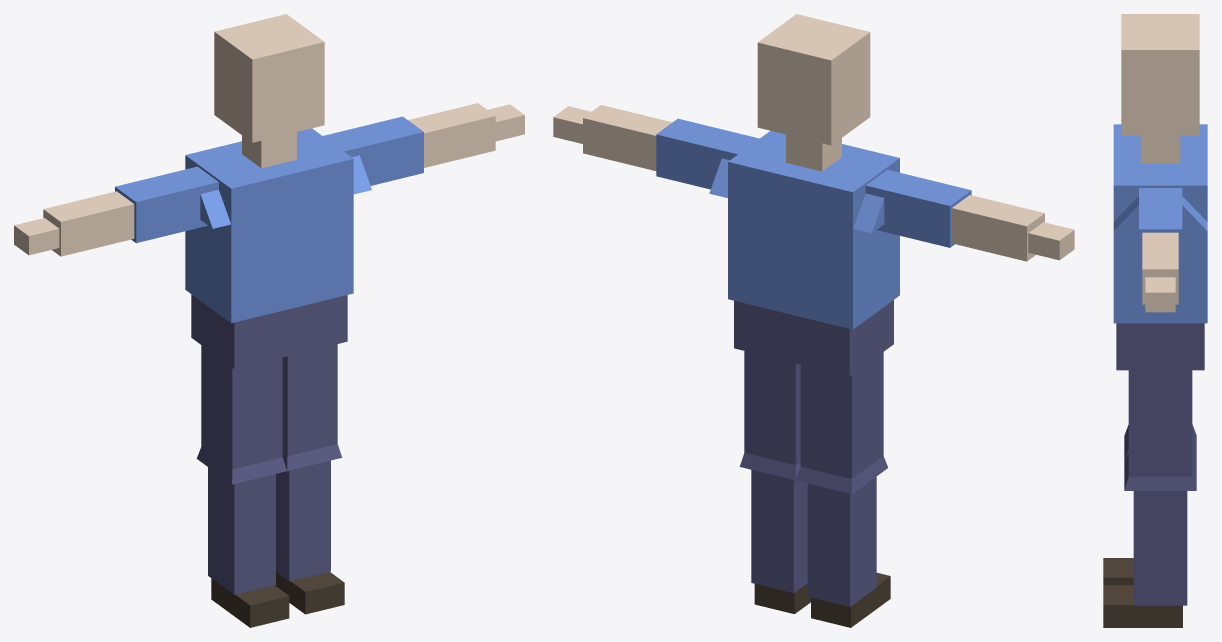
The model's file is character_lowpoly_mixamo.glb.
3 renders of one model, left to right at view 1: azimuth 30°, elevation 25°; view 2: azimuth 150°, elevation 25°; view 3: azimuth 270°, elevation 25°, orthographic. The views are drawn at different scales.
Parts seen in each view (by area): view 1: LowPolyCharacter_Mixamo; view 2: LowPolyCharacter_Mixamo; view 3: LowPolyCharacter_Mixamo.
Part boxes in pixels (bbox=[...]): LowPolyCharacter_Mixamo: bbox=[14, 14, 524, 627]; LowPolyCharacter_Mixamo: bbox=[553, 14, 1074, 627]; LowPolyCharacter_Mixamo: bbox=[1103, 14, 1207, 627].
Size of the model in its own units: 1.62 by 1.75 by 0.288.
